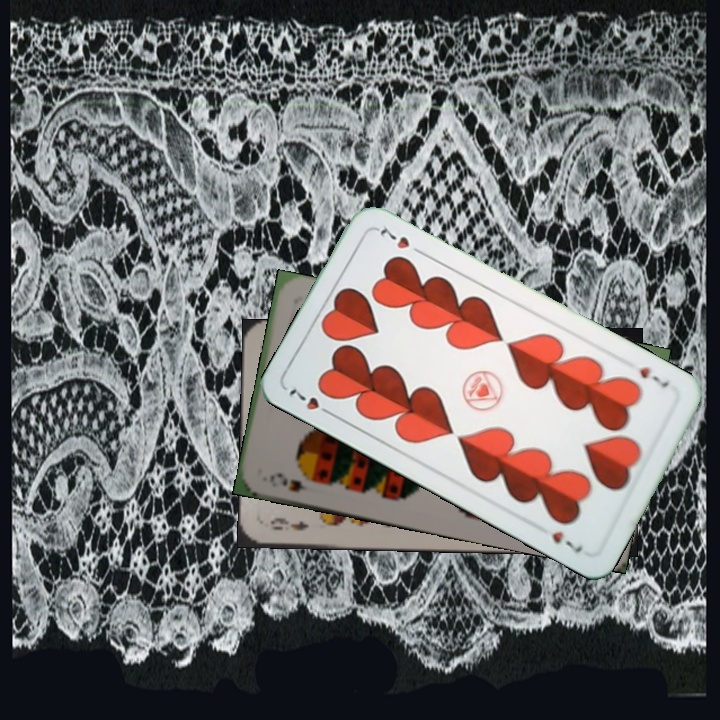E9: (266, 514, 311, 533)
H7: (284, 381, 337, 420), (635, 362, 672, 391)
S9: (265, 468, 311, 495)
